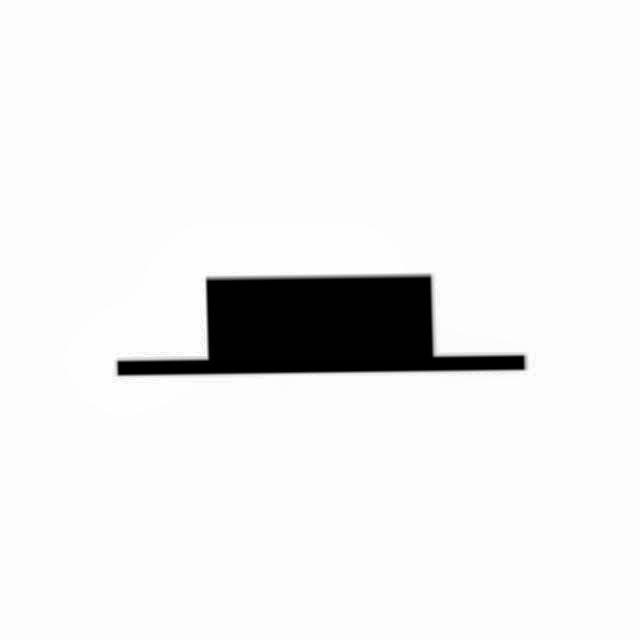Half-rest: (98, 263, 542, 389)
